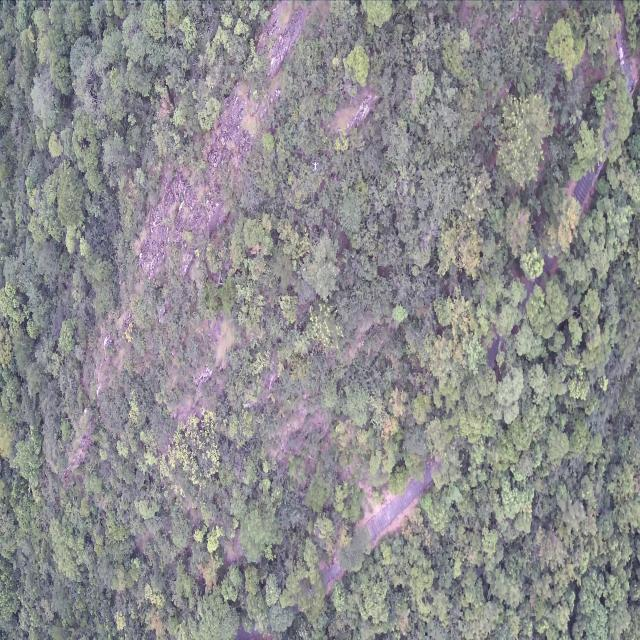UAV: (312, 161, 318, 171)
